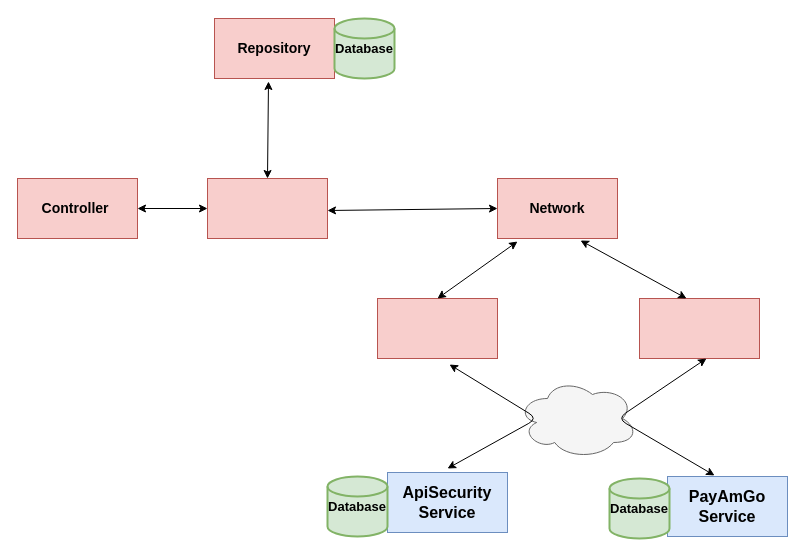
Image size: 805x556. Some labels were removed from this diagram. Each missing label, with the box of its shape:
ApiSecurity: (376, 298, 498, 358)
Internet: (516, 378, 638, 458)
PayAmGo: (638, 298, 760, 358)
Service: (206, 178, 328, 238)
